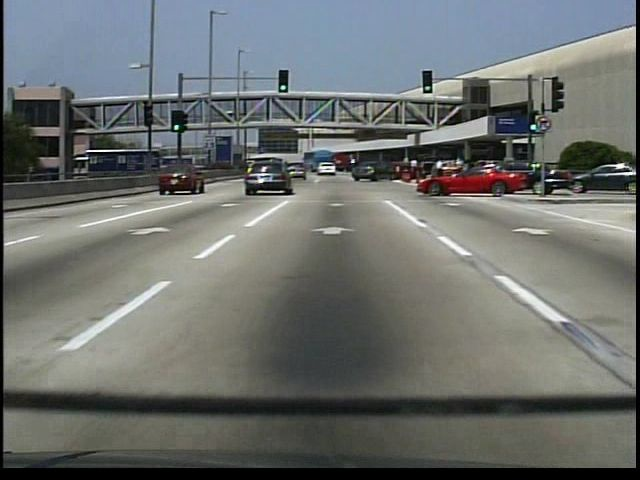person: (410, 158, 420, 183), (435, 159, 444, 178), (228, 110, 235, 125)
